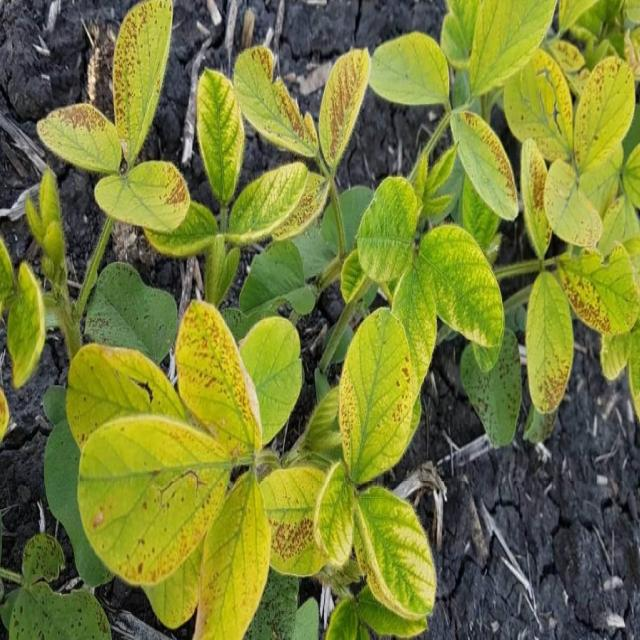Chlorosis: (4, 19, 640, 640)
